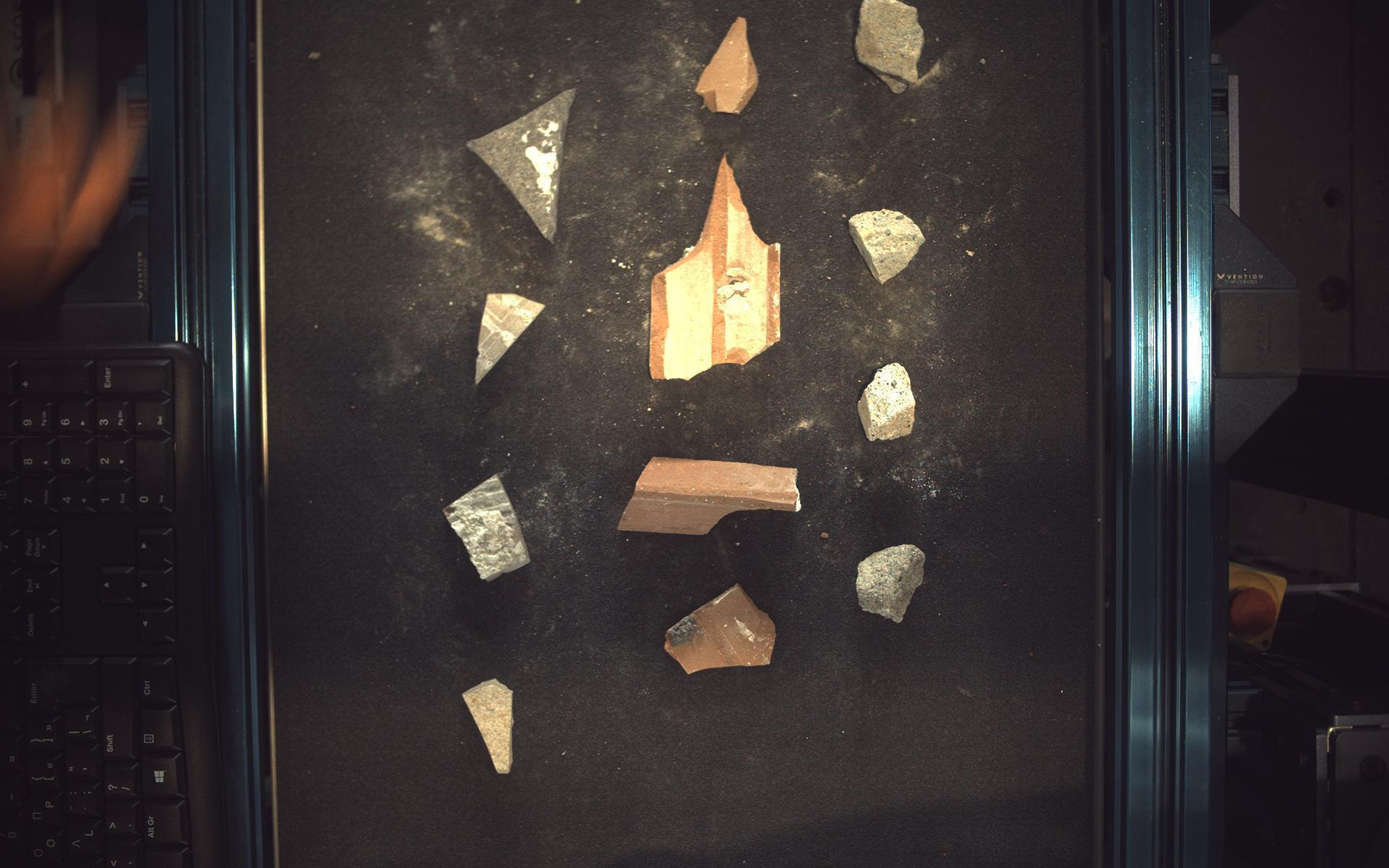brick: (650, 155, 781, 380), (619, 458, 802, 535), (666, 585, 777, 675), (697, 15, 760, 113)
concrete: (857, 1, 926, 92), (851, 208, 927, 283), (858, 545, 927, 624), (859, 362, 917, 441)
tile: (467, 88, 576, 241), (443, 475, 530, 582), (476, 293, 545, 383), (463, 680, 513, 775)
